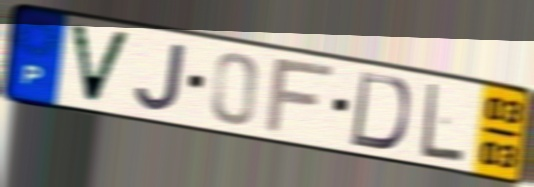0: (208, 50, 260, 126)
D: (346, 69, 412, 153)
F: (261, 57, 339, 136)
J: (133, 40, 190, 114)
L: (419, 80, 467, 165)
V: (65, 19, 135, 108)
